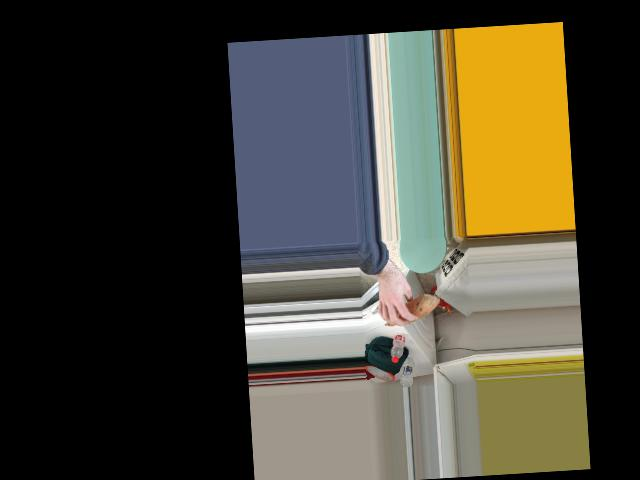sweet_potato: (381, 298, 435, 326)
